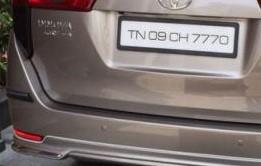License-Plate: (121, 18, 233, 57)
